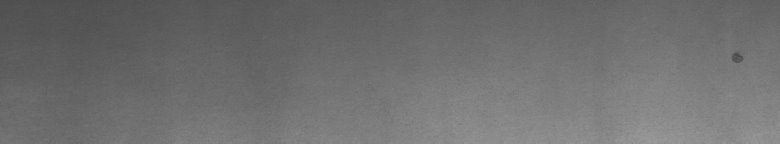fi: (729, 44, 744, 68)
